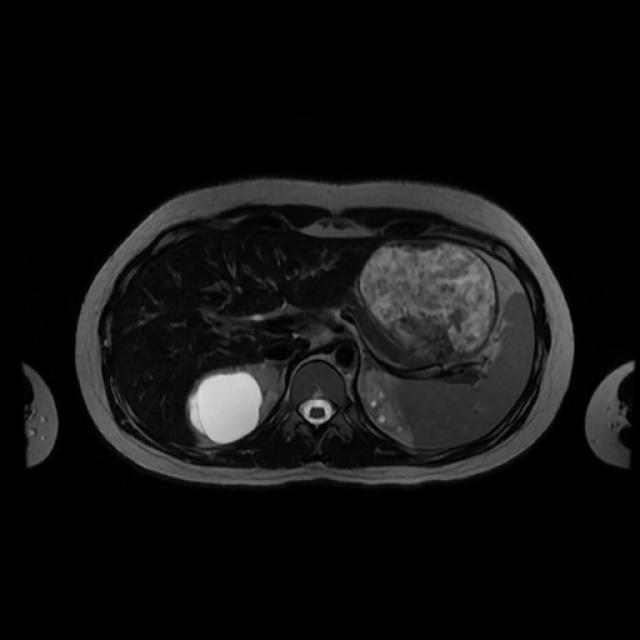sag: (185, 363, 282, 444)
sol: (358, 371, 415, 443)
